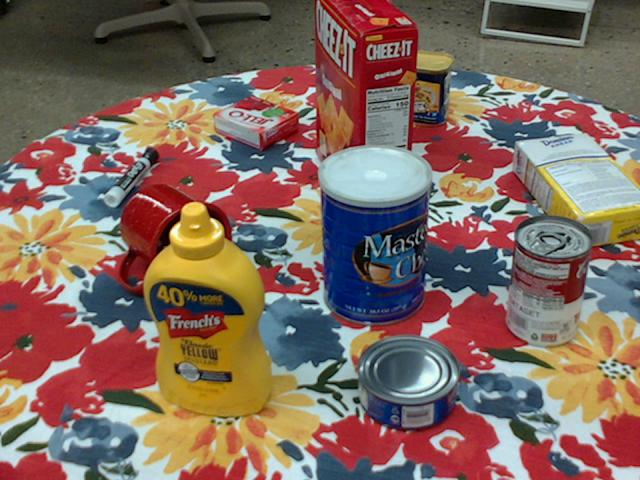cracker_box: (316, 0, 418, 214)
gelatin_box: (211, 95, 298, 150)
large_marker: (102, 147, 157, 206)
master_chef_can: (317, 145, 431, 327)
mug: (117, 184, 232, 293)
mustard_bottle: (143, 202, 272, 415)
potted_meat_can: (374, 46, 454, 124)
sugar_box: (512, 131, 639, 250)
tomato_soup_can: (507, 214, 591, 346)
tuna_fish_can: (354, 335, 456, 431)
